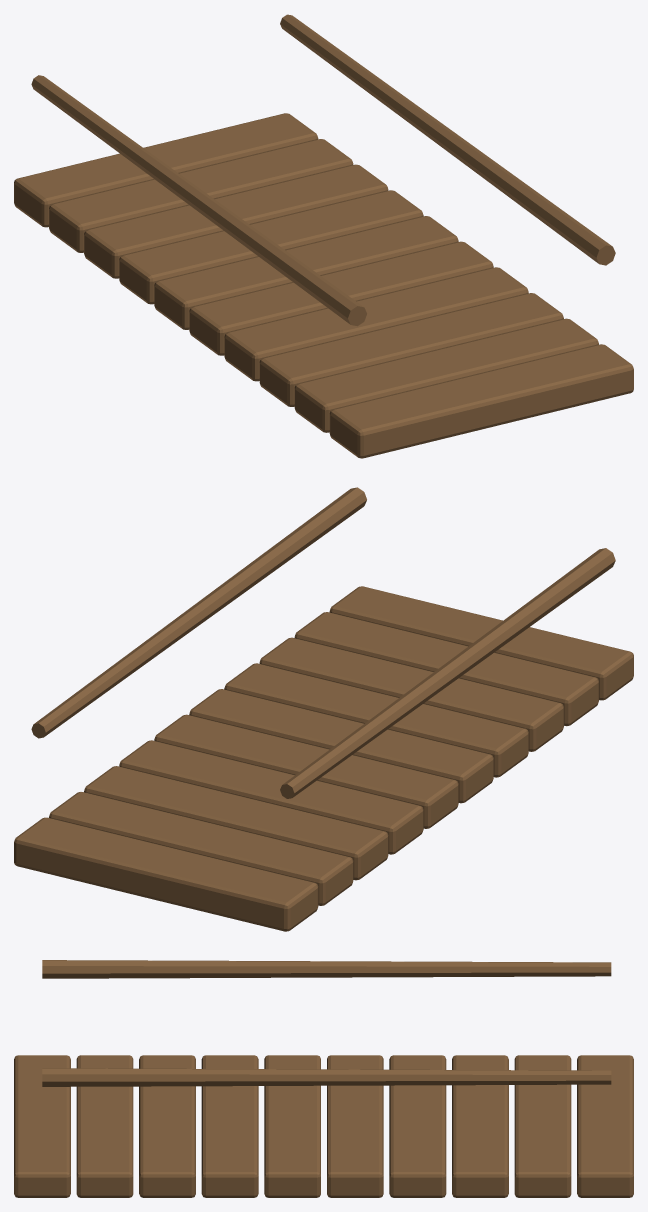
File: bridge.glb
The picture shows the model from 3 angles, top to bottom: view 1: azimuth 30°, elevation 25°; view 2: azimuth 150°, elevation 25°; view 3: azimuth 270°, elevation 25°; orthographic projection. The views are drawn at different scales.
Parts seen in each view (by area): view 1: Bridge plank, Bridge plank.001, Bridge plank.002, Bridge plank.003, Bridge plank.009, Bridge plank.008, Bridge plank.007, Bridge plank.006, Bridge plank.005, Bridge plank.004, Rail, Rail.001; view 2: Bridge plank.009, Bridge plank.008, Bridge plank.007, Bridge plank.006, Bridge plank.005, Bridge plank.004, Bridge plank.003, Bridge plank.002, Bridge plank.001, Bridge plank, Rail, Rail.001; view 3: Rail.001, Rail, Bridge plank.009, Bridge plank, Bridge plank.008, Bridge plank.006, Bridge plank.003, Bridge plank.001, Bridge plank.005, Bridge plank.007, Bridge plank.004, Bridge plank.002.
Part boxes in pixels (<box>): Bridge plank: <box>329,344,633,458</box>; Bridge plank.001: <box>294,318,598,432</box>; Bridge plank.002: <box>259,293,563,406</box>; Bridge plank.003: <box>224,267,528,381</box>; Bridge plank.009: <box>14,113,318,227</box>; Bridge plank.008: <box>49,139,353,252</box>; Bridge plank.007: <box>84,164,388,278</box>; Bridge plank.006: <box>119,190,423,304</box>; Bridge plank.005: <box>154,216,458,329</box>; Bridge plank.004: <box>189,241,493,355</box>; Rail: <box>31,75,366,326</box>; Rail.001: <box>280,14,615,265</box>; Bridge plank.009: <box>14,817,318,931</box>; Bridge plank.008: <box>49,792,353,905</box>; Bridge plank.007: <box>84,766,388,880</box>; Bridge plank.006: <box>119,740,423,854</box>; Bridge plank.005: <box>154,714,458,828</box>; Bridge plank.004: <box>189,689,493,803</box>; Bridge plank.003: <box>224,663,528,777</box>; Bridge plank.002: <box>259,637,563,751</box>; Bridge plank.001: <box>294,612,598,726</box>; Bridge plank: <box>329,586,633,700</box>; Rail: <box>280,548,615,798</box>; Rail.001: <box>31,487,366,738</box>; Rail.001: <box>42,1068,611,1086</box>; Rail: <box>42,960,611,978</box>; Bridge plank.009: <box>577,1055,633,1197</box>; Bridge plank: <box>14,1055,70,1197</box>; Bridge plank.008: <box>514,1055,571,1197</box>; Bridge plank.006: <box>389,1055,446,1197</box>; Bridge plank.003: <box>201,1055,258,1197</box>; Bridge plank.001: <box>76,1055,133,1197</box>; Bridge plank.005: <box>327,1055,383,1197</box>; Bridge plank.007: <box>452,1055,508,1197</box>; Bridge plank.004: <box>264,1055,320,1197</box>; Bridge plank.002: <box>139,1055,195,1197</box>.
Bounding box in the file's own units: 2 × 0.97 × 4.36.
